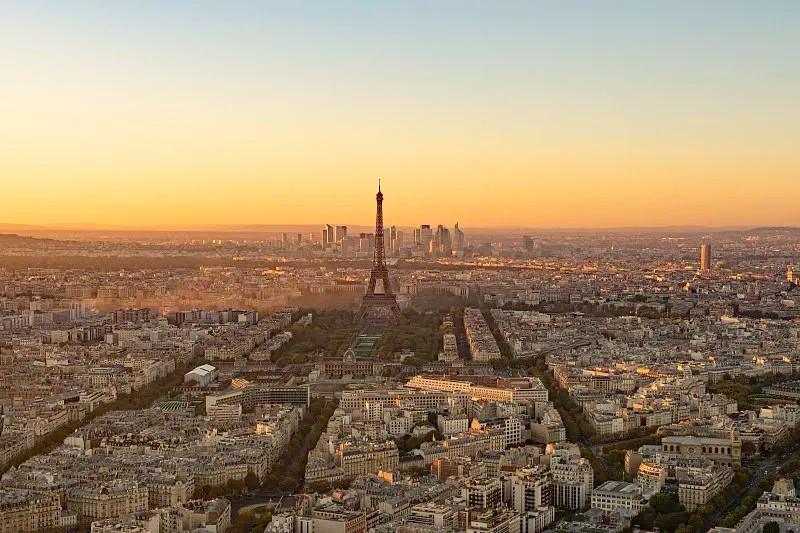Eiffel: (352, 178, 406, 327)
